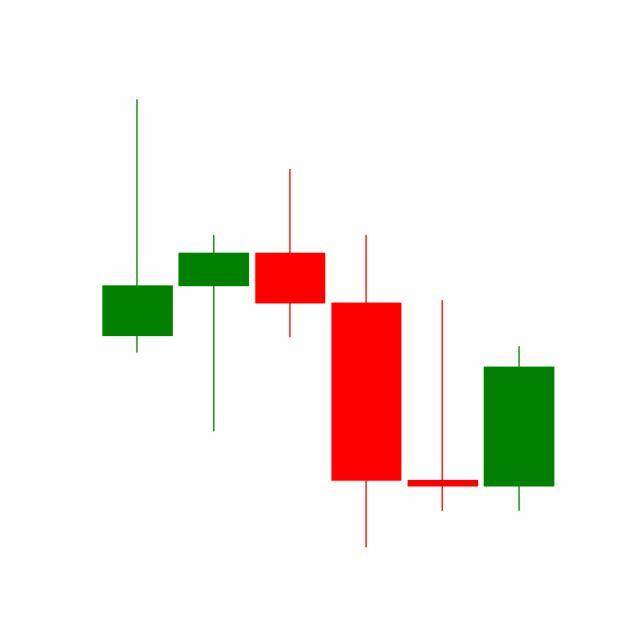Gravestone Doji: (404, 298, 482, 514)
